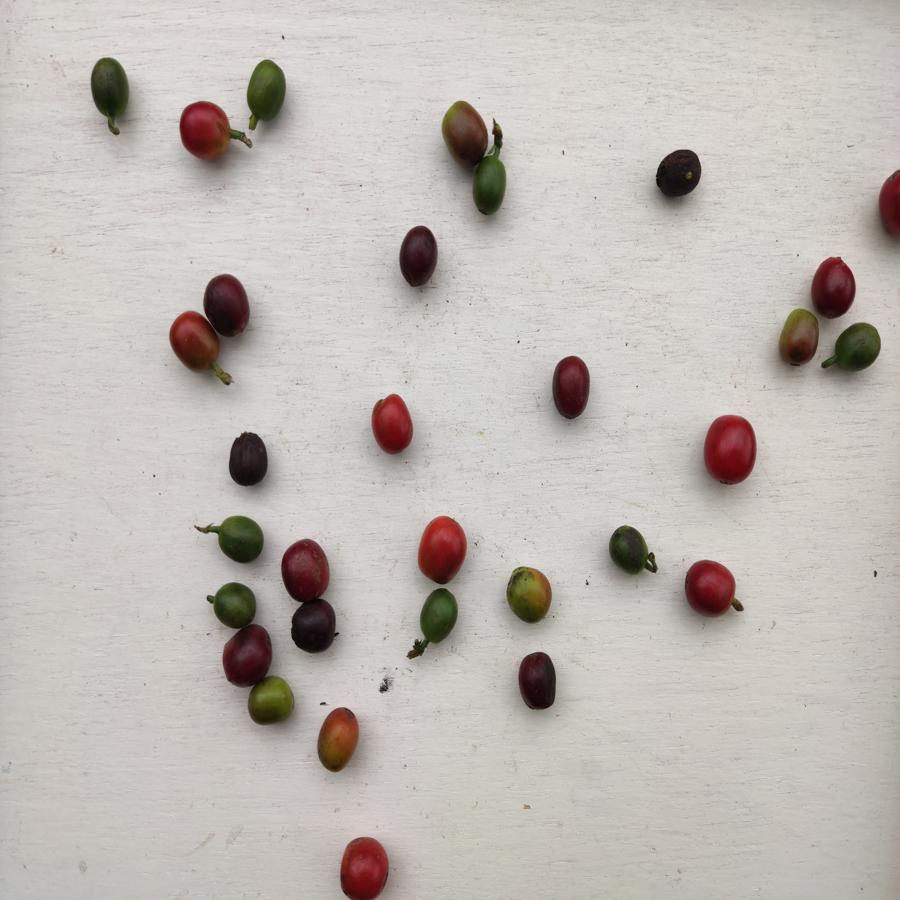Inmaduro: (242, 59, 288, 126), (87, 56, 135, 120), (830, 319, 882, 373), (211, 514, 265, 565), (468, 155, 511, 217), (605, 525, 652, 580), (417, 588, 464, 643), (206, 581, 259, 626)
Maduro: (704, 414, 759, 488), (334, 833, 392, 900), (416, 514, 468, 585), (680, 560, 739, 618), (179, 101, 232, 158), (167, 312, 213, 373), (371, 393, 415, 456)
Pinton: (437, 99, 490, 160), (506, 564, 555, 628), (316, 704, 359, 773), (247, 674, 296, 730), (779, 307, 820, 367)
Sobremaduro: (204, 273, 256, 335), (279, 539, 330, 600), (515, 649, 562, 714), (549, 355, 595, 419), (291, 600, 340, 654), (226, 431, 271, 489), (812, 256, 856, 314), (400, 226, 441, 288), (656, 149, 702, 199), (222, 628, 275, 671)
